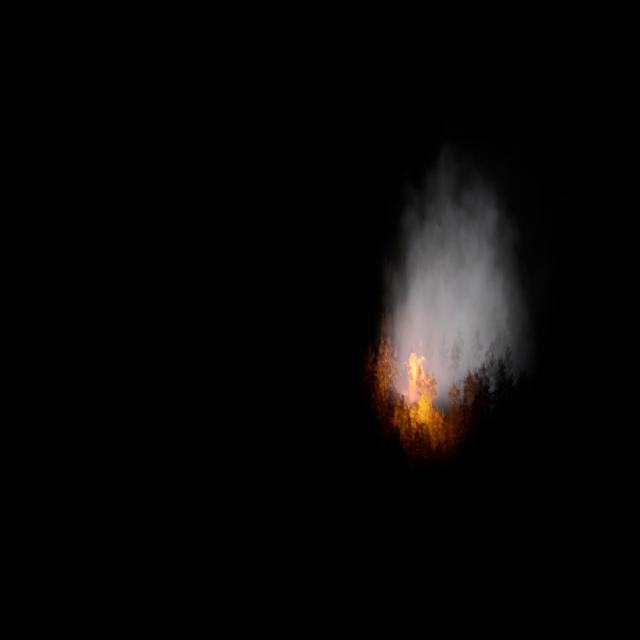fire: (406, 350, 438, 428)
smoke: (379, 165, 531, 410)
